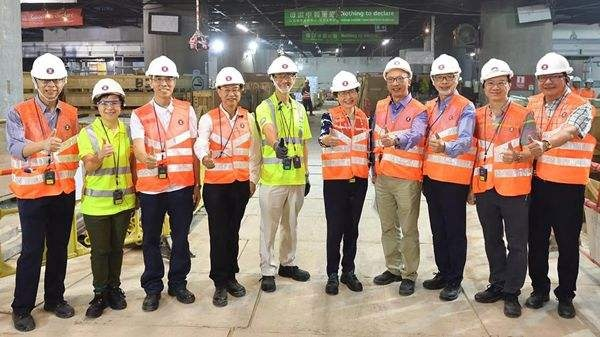white: (532, 51, 573, 100), (31, 51, 68, 104), (478, 56, 517, 104), (426, 49, 463, 98), (265, 52, 301, 98), (89, 76, 124, 122), (212, 61, 245, 108), (380, 54, 413, 99), (147, 54, 178, 101), (328, 69, 361, 111)
